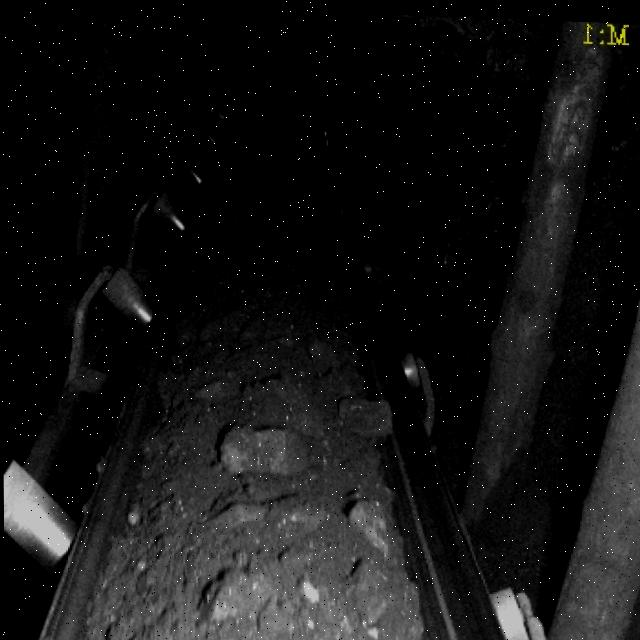large_sized_coal: (211, 423, 313, 475), (210, 495, 321, 538), (193, 565, 269, 622), (326, 390, 394, 437), (347, 493, 398, 553)
